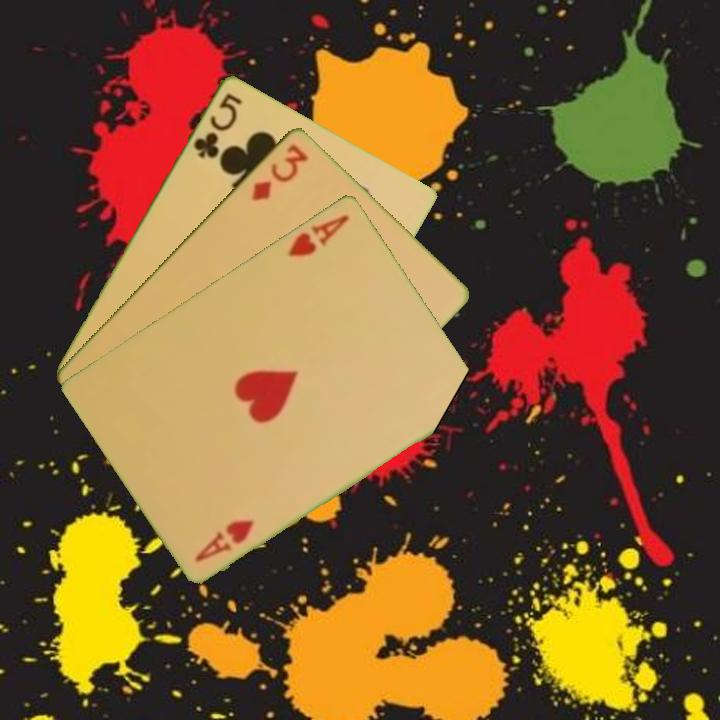3d: (247, 140, 312, 204)
5c: (189, 88, 245, 161)
Ah: (284, 210, 352, 260), (191, 515, 257, 564)
